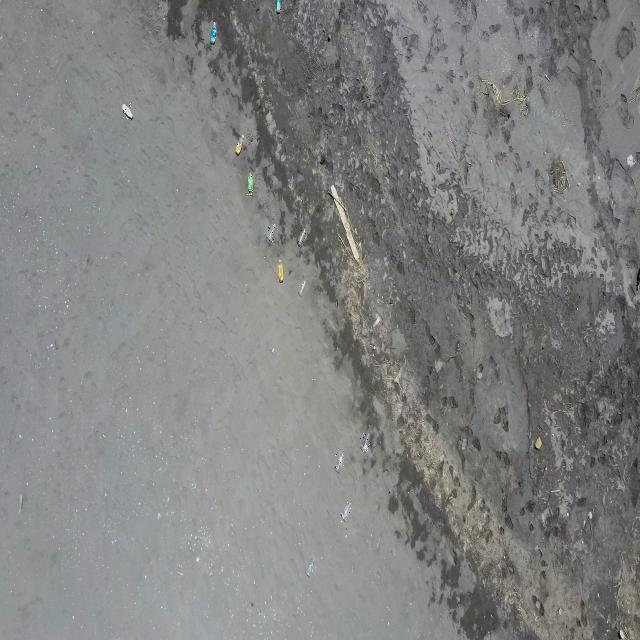plastic-bottle: (122, 103, 133, 120), (236, 134, 244, 156), (277, 259, 284, 283), (247, 173, 254, 196), (210, 22, 217, 43), (276, 0, 282, 15)
takeaway-cup: (360, 432, 370, 454), (340, 502, 351, 522), (334, 453, 344, 474), (268, 224, 278, 243), (305, 558, 314, 578), (297, 228, 306, 248), (298, 280, 306, 298)
